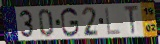0: (37, 8, 55, 39)
2: (81, 7, 100, 38)
3: (18, 9, 34, 39)
G: (59, 7, 80, 38)
L: (104, 6, 123, 36)
T: (123, 5, 140, 36)
